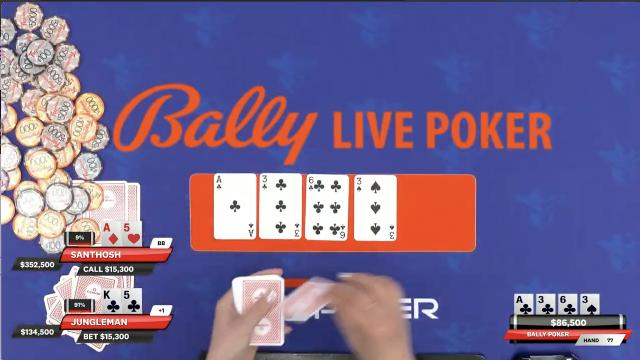3C: (536, 294, 556, 316)
3S: (580, 293, 600, 315)
5C: (120, 289, 142, 313)
5H: (122, 220, 142, 248)
6C: (559, 294, 579, 316)
AC: (514, 293, 534, 315)
AD: (100, 221, 122, 247)
KC: (101, 288, 122, 314)
